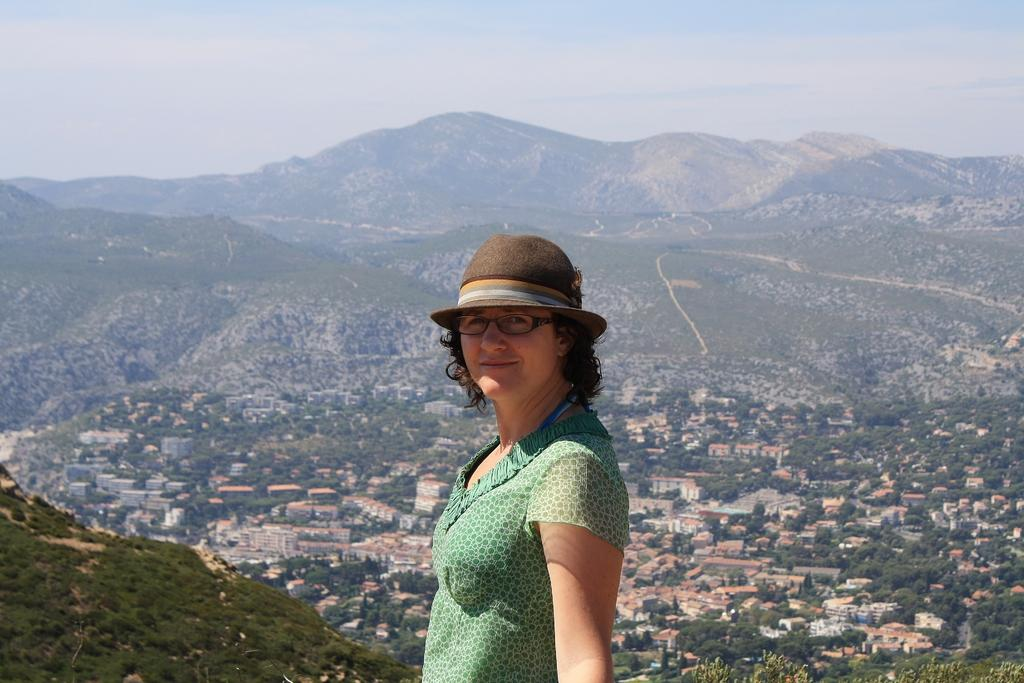Hat: (432, 236, 610, 345)
